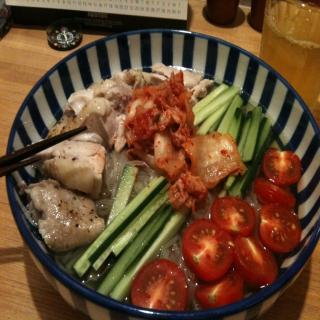tomato: (182, 219, 236, 282), (131, 258, 187, 311), (234, 233, 278, 292), (258, 202, 303, 252), (196, 266, 245, 310), (211, 196, 254, 237), (262, 150, 302, 184), (254, 177, 295, 208)
